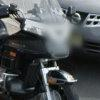Motorcycle: (3, 18, 82, 100)
